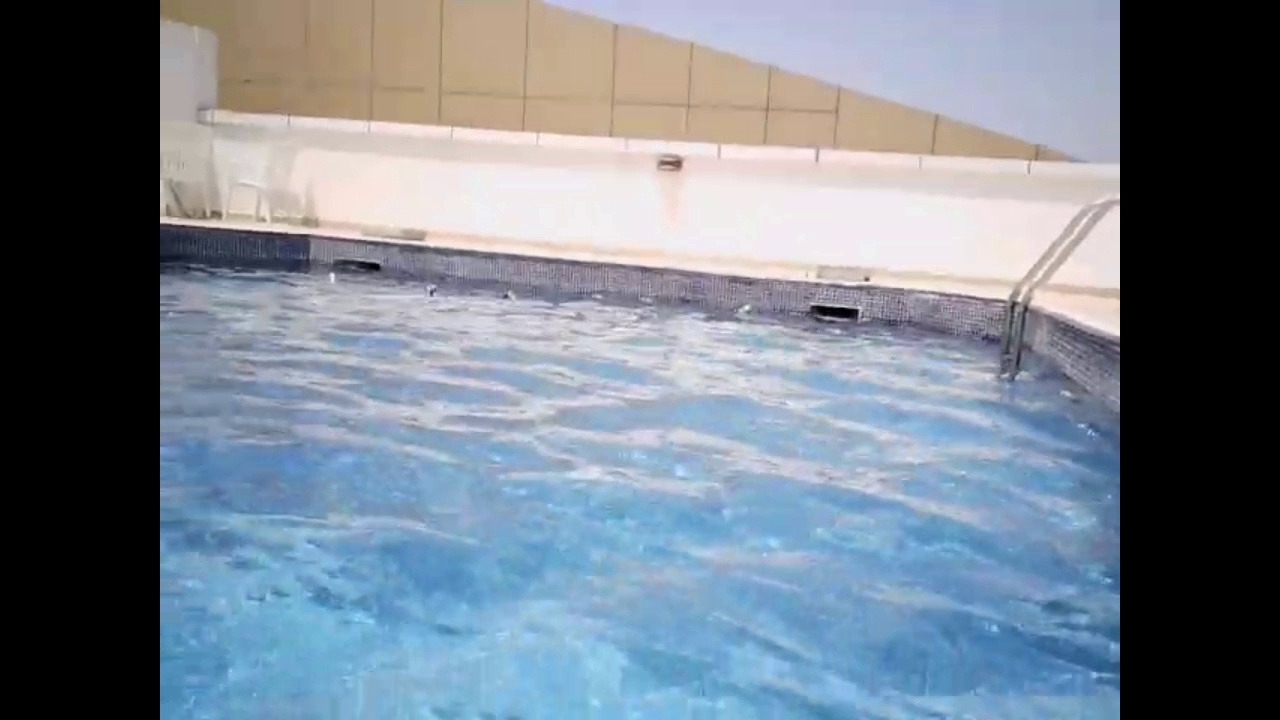debris: (728, 300, 754, 321), (421, 279, 443, 303), (495, 285, 518, 307), (322, 267, 339, 283)
